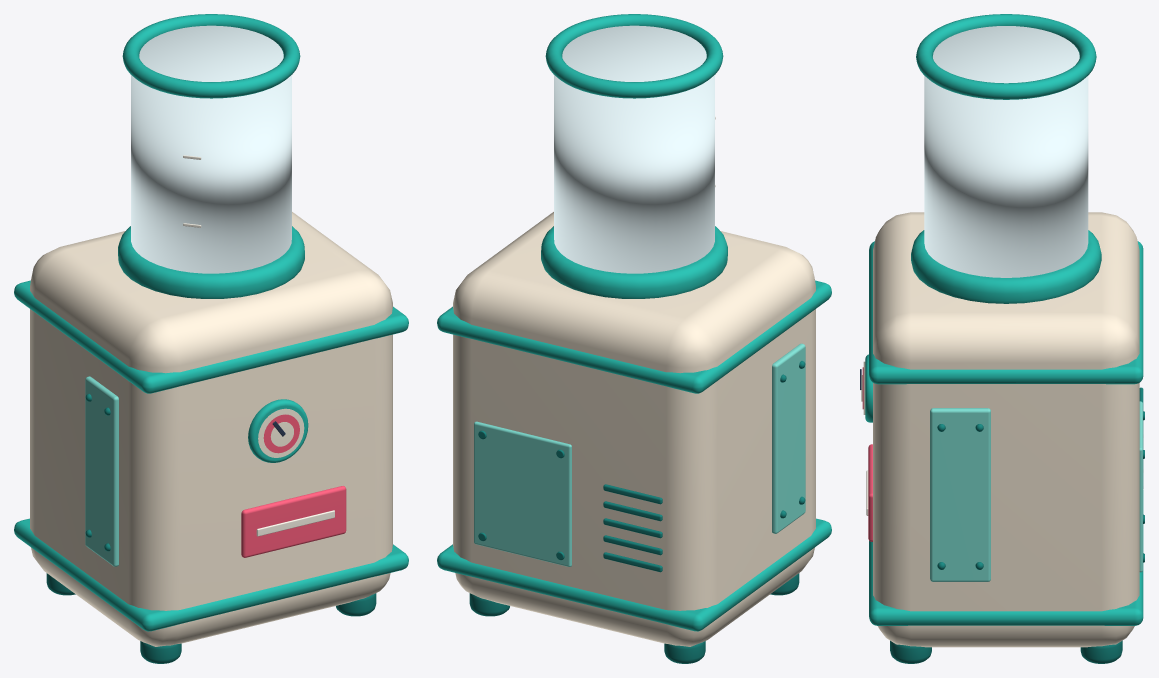
The model's file is Grower.fbx.
3 views of the same model, side by side, from view 1: azimuth 30°, elevation 25°; view 2: azimuth 150°, elevation 25°; view 3: azimuth 270°, elevation 25° (orthographic).
Visible parts, largest first — view 1: Grower mesh; view 2: Grower mesh; view 3: Grower mesh.
Boxes of the visible parts, <box> form: Grower mesh: <box>14,14,408,663</box>; Grower mesh: <box>437,14,831,663</box>; Grower mesh: <box>860,14,1144,663</box>.
Bounding box in the file's own units: 0.854 × 1.62 × 0.748.
